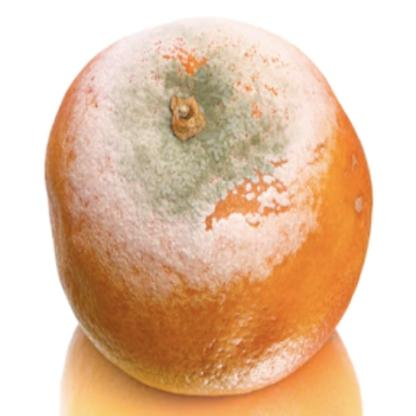rotten: (41, 18, 374, 400)
